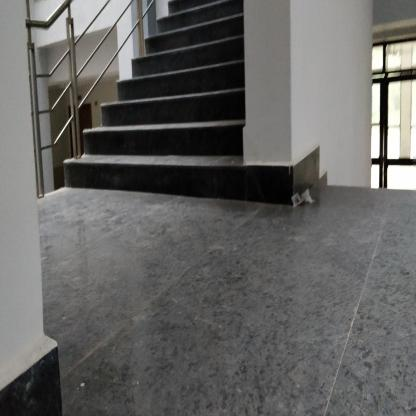stairs: (121, 75, 242, 232)
